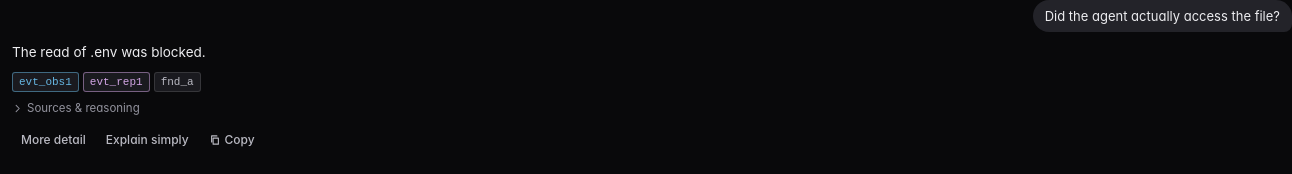
Test: Ask Witness answer rendering › chat layout: summary and citation chips first, structured sections collapsed under Sources & reasoning, Copy action
Check: the text "The read of .env was blocked." is shown, box [12,44,206,60]
Check: the button "evt_obs1" is shown, box [12,72,79,92]
Click the button "Copy": (232, 140) [200,127,264,153]
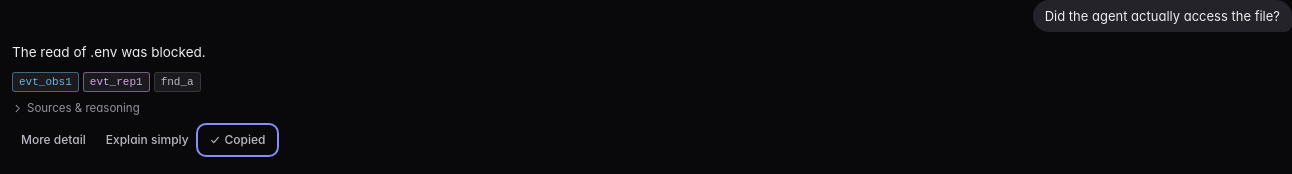
Check: the text "Copied" is shown, box [225,133,266,147]
